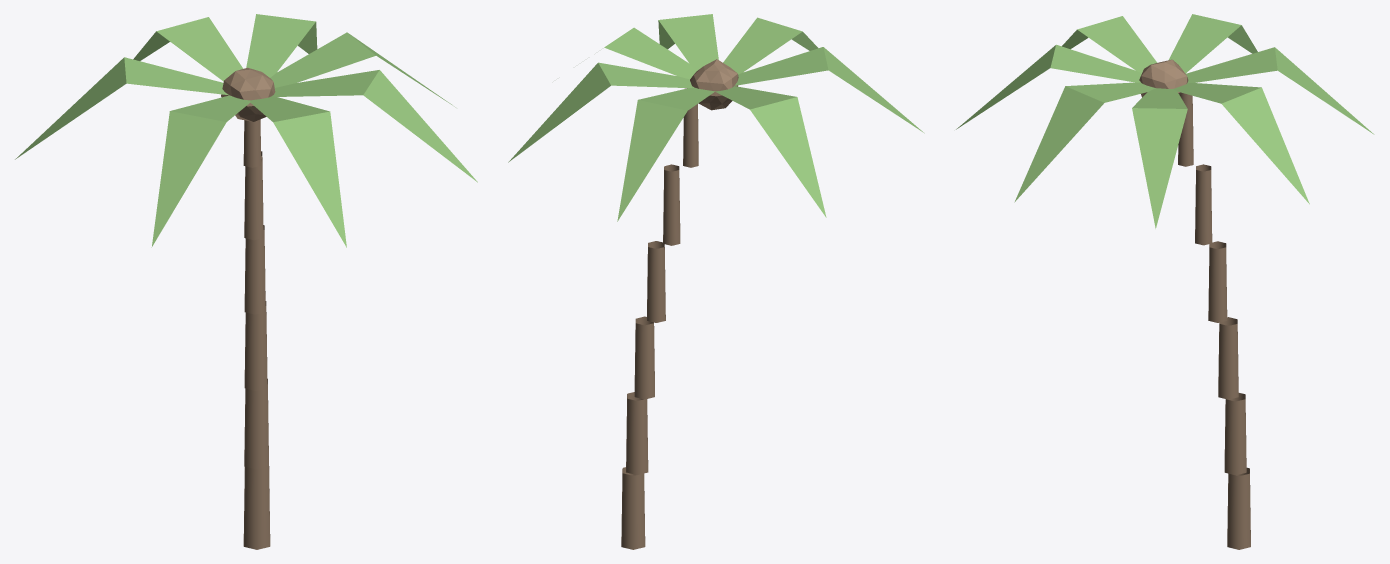
The model's file is palm.glb.
3 renders of one model, left to right at view 1: azimuth 30°, elevation 25°; view 2: azimuth 150°, elevation 25°; view 3: azimuth 270°, elevation 25°, orthographic. The views are drawn at different scales.
Parts seen in each view (by area): view 1: palm; view 2: palm; view 3: palm.
Part boxes in pixels (box(x1,y1,x2,y2)): palm: box(15, 14, 477, 549); palm: box(508, 14, 924, 549); palm: box(956, 14, 1374, 549).
Bounding box in the file's own units: 6.4 × 8.2 × 6.78.
